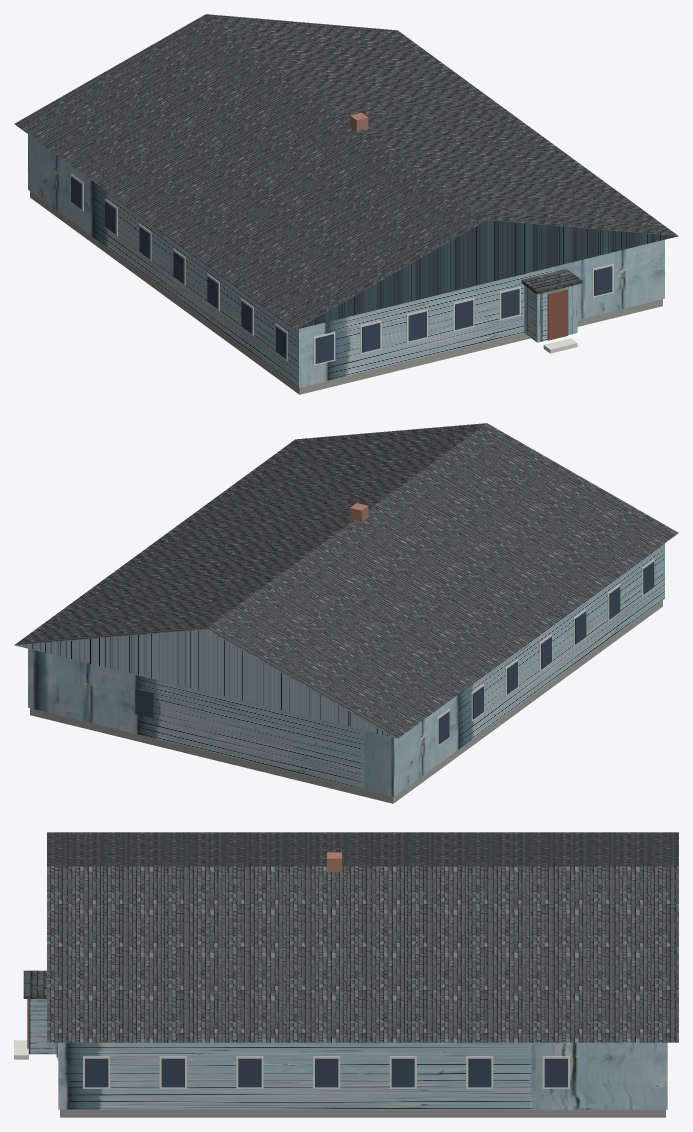
File: asset.glb
3 renders of one model, top to bottom at view 1: azimuth 30°, elevation 25°; view 2: azimuth 150°, elevation 25°; view 3: azimuth 270°, elevation 25°, orthographic. The views are drawn at different scales.
Parts seen in each view (by area): view 1: roof, body, gable_end, foundation, porch, door, porch_cap; view 2: roof, body, gable_end, foundation; view 3: roof, body, foundation, porch, win.015, win.013, win.014, win.016, win.017, win.018, win.019, porch_cap.
Part boxes in pixels (box(x1,y1,x2,y2)): roof: box(14, 14, 678, 329); body: box(28, 134, 664, 387); gable_end: box(296, 220, 677, 329); foundation: box(30, 191, 662, 394); porch: box(524, 284, 577, 342); door: box(547, 289, 567, 340); porch_cap: box(521, 269, 582, 294); roof: box(14, 423, 678, 738); body: box(28, 543, 664, 796); gable_end: box(15, 629, 396, 738); foundation: box(30, 600, 662, 803); roof: box(47, 832, 678, 1042); body: box(58, 1042, 667, 1109); foundation: box(60, 1109, 665, 1117); porch: box(28, 999, 56, 1054); win.015: box(238, 1058, 261, 1087); win.013: box(85, 1058, 108, 1087); win.014: box(161, 1058, 184, 1087); win.016: box(315, 1058, 338, 1087); win.017: box(391, 1058, 414, 1087); win.018: box(468, 1058, 491, 1087); win.019: box(544, 1058, 567, 1087); porch_cap: box(23, 970, 46, 998).
Size of the model in its own units: 18.19 by 6.55 by 24.3.
7 materials, 2 textured.
